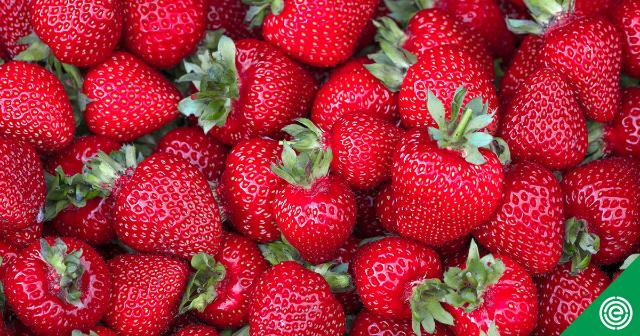Strawberries: (386, 121, 504, 241), (195, 34, 312, 138), (112, 156, 222, 260), (5, 234, 109, 336), (271, 156, 355, 264), (482, 158, 564, 268), (540, 9, 620, 119), (487, 166, 567, 270), (398, 47, 497, 129), (84, 52, 180, 136), (566, 156, 640, 260), (264, 0, 382, 64), (51, 137, 125, 239), (446, 254, 538, 336), (505, 72, 587, 163), (353, 238, 442, 320), (0, 58, 72, 154), (220, 130, 282, 240), (248, 262, 340, 336), (105, 254, 189, 334), (326, 109, 402, 189), (30, 0, 122, 64), (396, 6, 496, 64), (122, 0, 208, 66), (312, 57, 400, 121), (198, 236, 260, 326), (538, 254, 610, 328), (1, 139, 40, 231)
